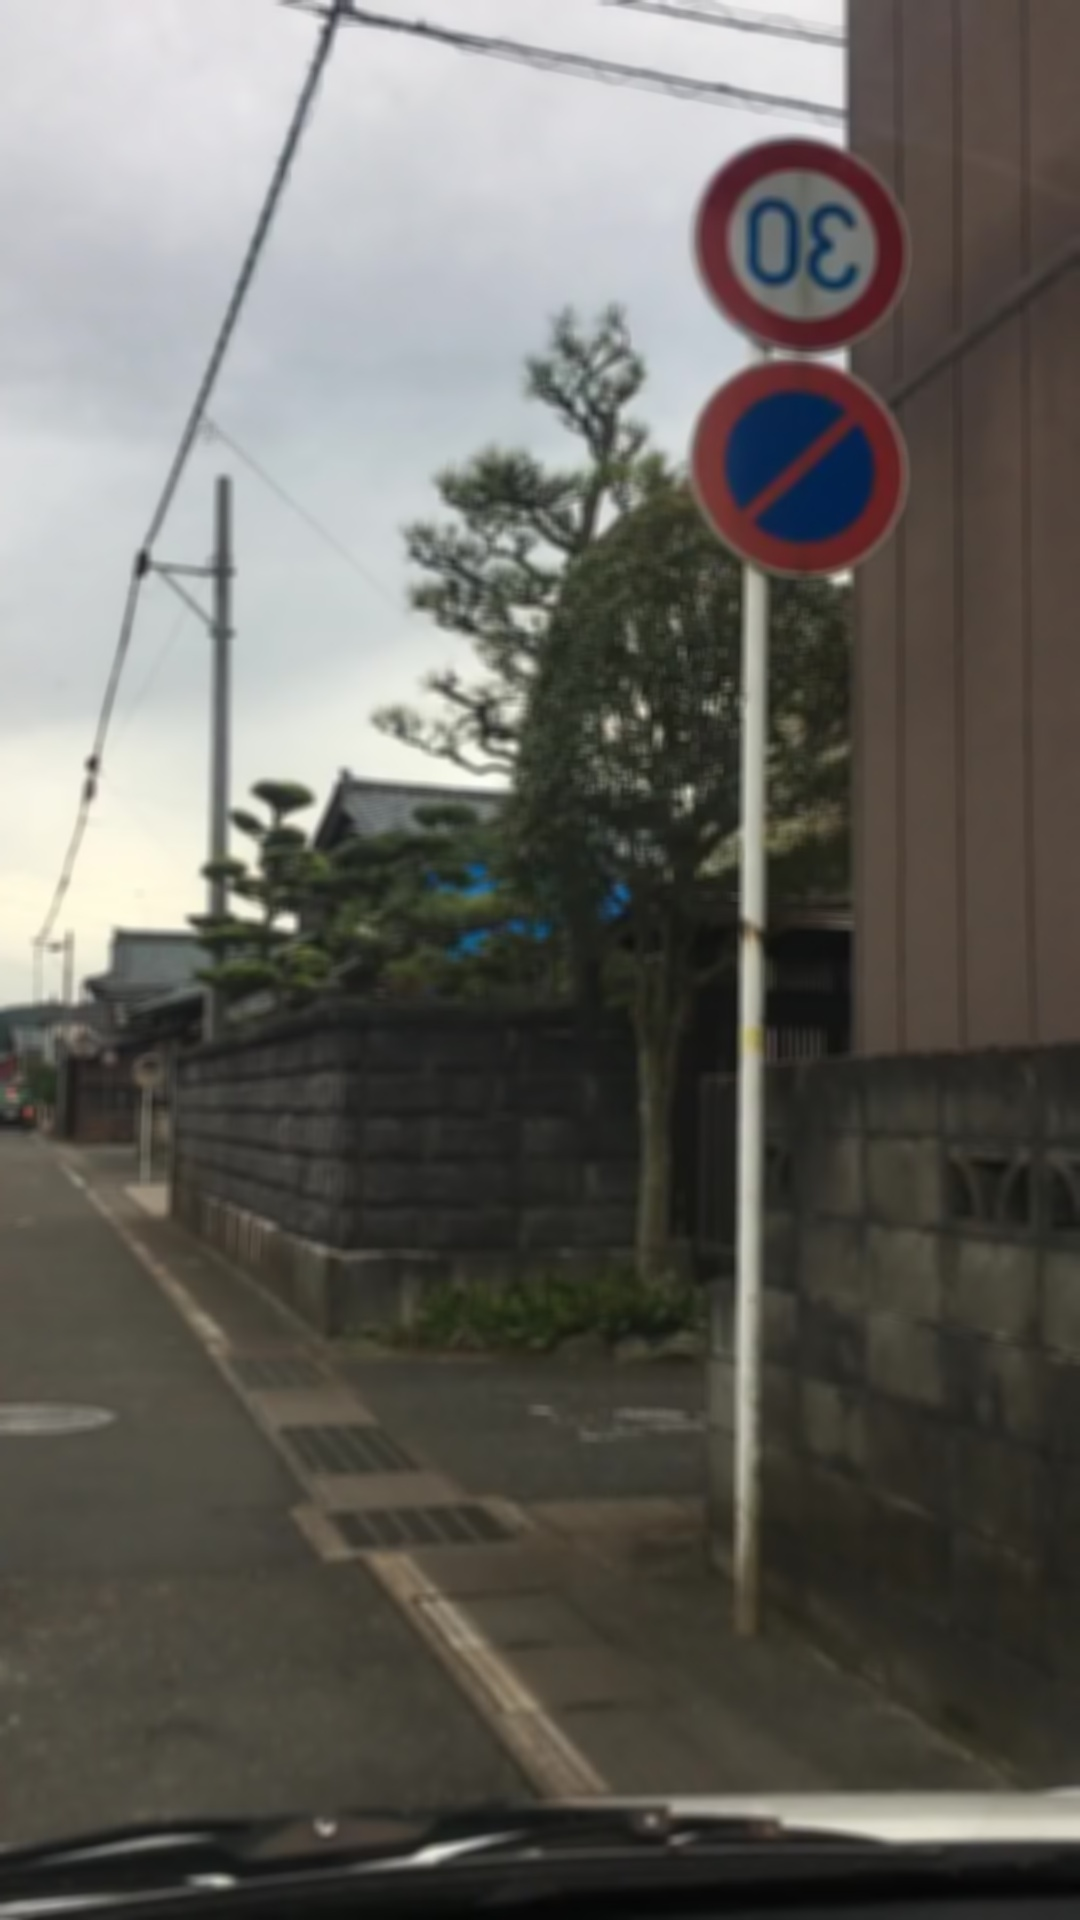Prohibition_sign: (716, 349, 952, 578)
Speed_sign: (694, 146, 913, 371)
